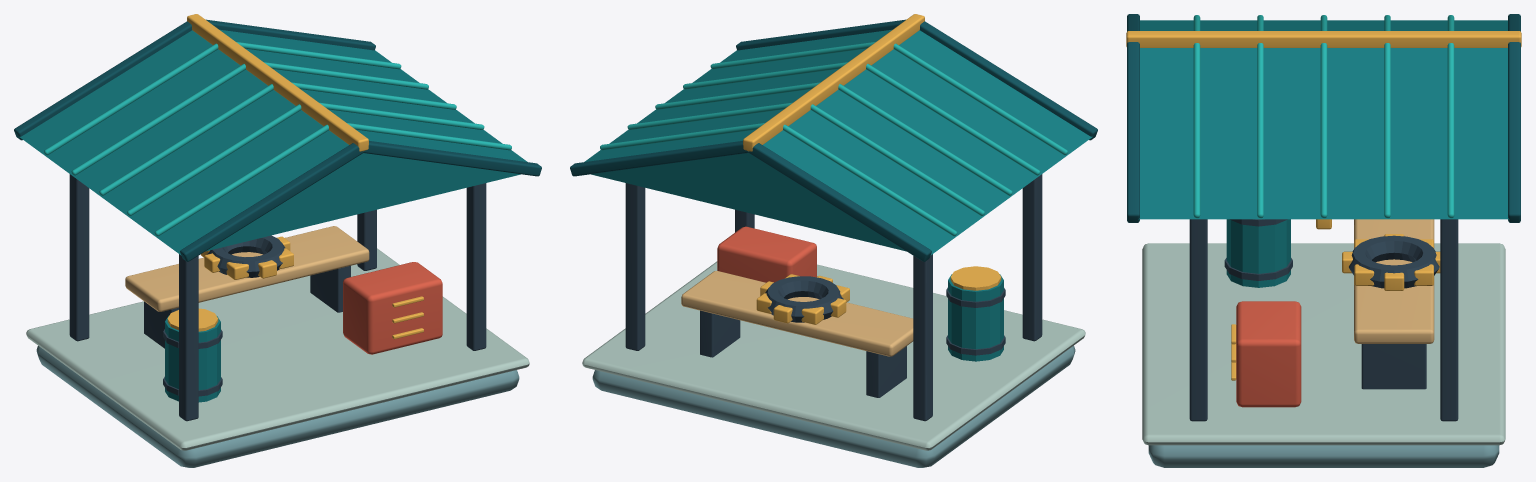
Rendered from Repair_T2.fbx.
3 views of the same model, side by side, from view 1: azimuth 30°, elevation 25°; view 2: azimuth 150°, elevation 25°; view 3: azimuth 270°, elevation 25° (orthographic). The views are drawn at different scales.
Visible parts, largest first — view 1: Repair_T2_Static; view 2: Repair_T2_Static; view 3: Repair_T2_Static.
Part boxes in pixels (x1,y1,x2,y2): Repair_T2_Static: (14, 14, 541, 467); Repair_T2_Static: (570, 14, 1097, 467); Repair_T2_Static: (1126, 14, 1521, 467).
Size of the model in its own units: 4.73 by 3.81 by 3.94.
1 material, 1 textured.
